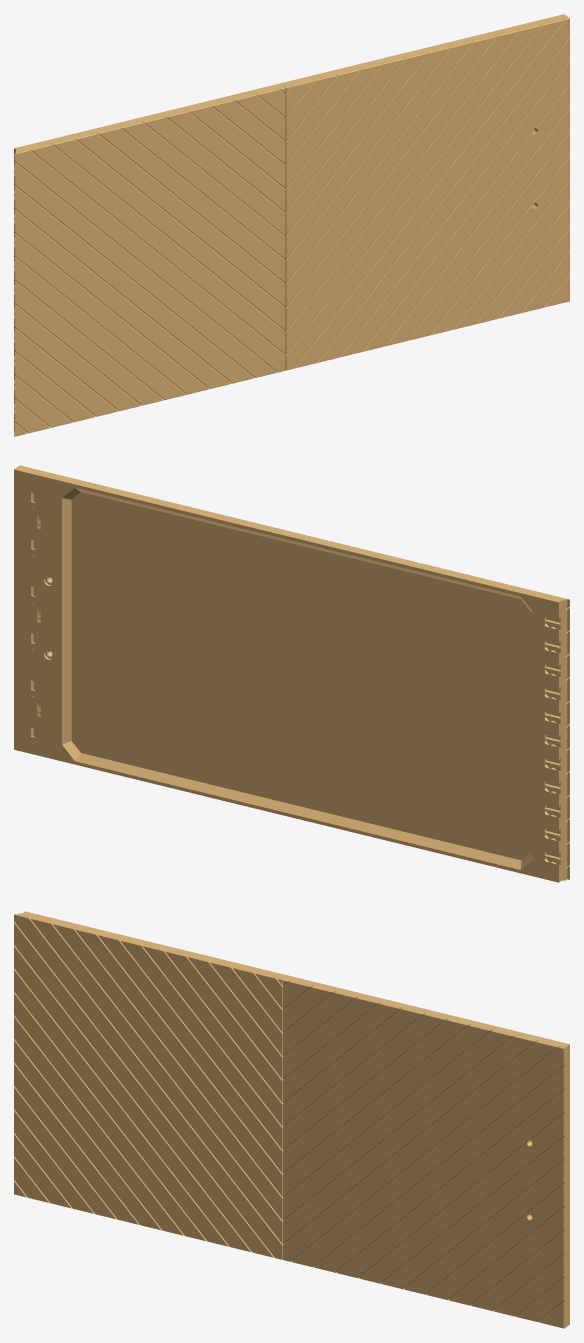
Rendered from Door_Chevron_4W-3H.lib.glb.
3 views of the same model, one above another, from view 1: azimuth 30°, elevation 25°; view 2: azimuth 150°, elevation 25°; view 3: azimuth 330°, elevation 25° (orthographic).
Parts seen in each view (by area): view 1: Door_Chevron_4W-3H; view 2: Door_Chevron_4W-3H; view 3: Door_Chevron_4W-3H.
Boxes of the visible parts, <box> form: Door_Chevron_4W-3H: <box>14,14,569,436</box>; Door_Chevron_4W-3H: <box>14,465,569,882</box>; Door_Chevron_4W-3H: <box>14,911,569,1328</box>.
Size of the model in its own units: 343 by 167 by 6.49.
